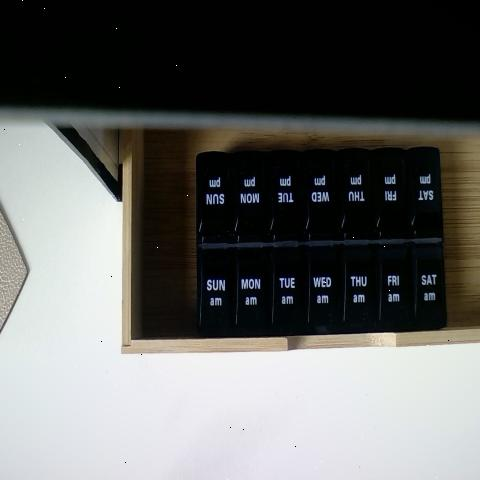FRI-am: (375, 245, 408, 331)
FRI-pm: (373, 143, 407, 239)
MON-am: (235, 246, 271, 337)
MON-pm: (229, 144, 268, 243)
SAT-am: (406, 242, 448, 331)
SAT-pm: (405, 148, 443, 242)
SUN-am: (199, 246, 233, 329)
SUN-pm: (198, 152, 234, 237)
THU-am: (340, 242, 379, 332)
THU-pm: (336, 146, 376, 241)
TUE-am: (271, 247, 307, 331)
TUE-pm: (268, 146, 305, 248)
WED-am: (305, 246, 339, 336)
WED-pm: (304, 150, 340, 249)
